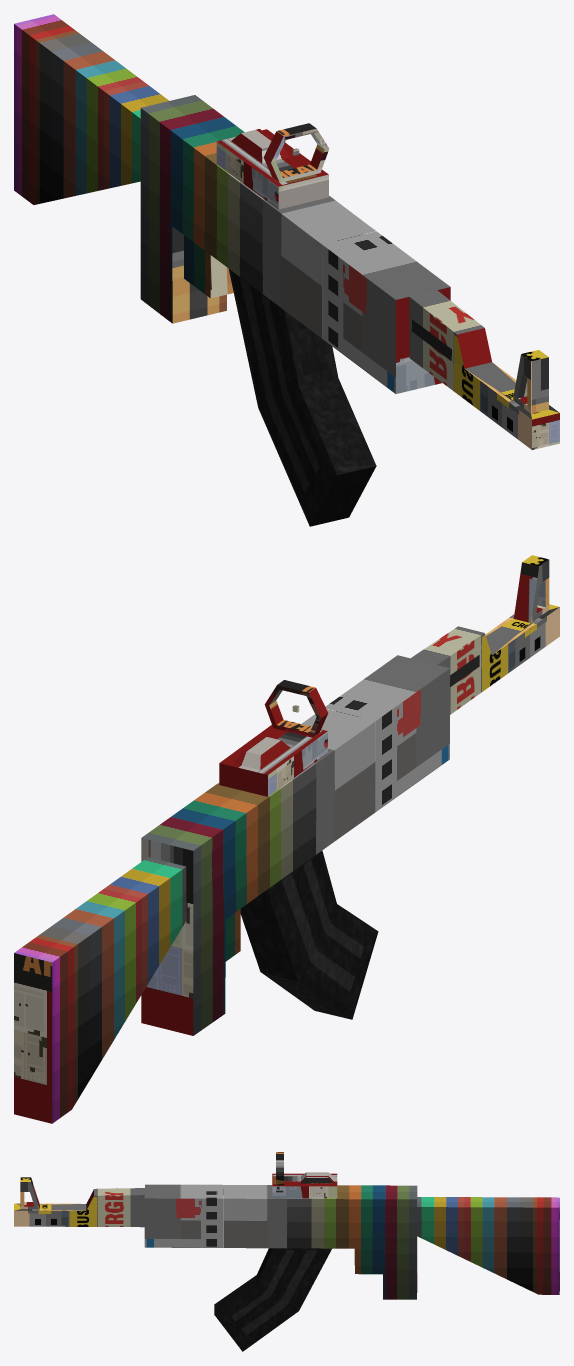
The model's file is SA_Wep_AssaultRifle01_minecraft texture.fbx.
3 renders of one model, top to bottom at view 1: azimuth 30°, elevation 25°; view 2: azimuth 150°, elevation 25°; view 3: azimuth 270°, elevation 25°, orthographic. The views are drawn at different scales.
Parts seen in each view (by area): view 1: SA_Wep_AssaultRifle01, SA_Wep_Magazine002, SA_Wep_AssaultRifle01_Reddot; view 2: SA_Wep_AssaultRifle01, SA_Wep_Magazine002, SA_Wep_AssaultRifle01_Reddot; view 3: SA_Wep_AssaultRifle01, SA_Wep_Magazine002, SA_Wep_AssaultRifle01_Reddot.
Part boxes in pixels (left/top/right/bottom): SA_Wep_AssaultRifle01: left=14, top=14, right=559, bottom=449; SA_Wep_Magazine002: left=229, top=269, right=376, bottom=526; SA_Wep_AssaultRifle01_Reddot: left=216, top=123, right=329, bottom=209; SA_Wep_AssaultRifle01: left=14, top=555, right=559, bottom=1123; SA_Wep_Magazine002: left=240, top=850, right=378, bottom=1019; SA_Wep_AssaultRifle01_Reddot: left=219, top=680, right=328, bottom=796; SA_Wep_AssaultRifle01: left=14, top=1177, right=559, bottom=1299; SA_Wep_Magazine002: left=214, top=1248, right=331, bottom=1351; SA_Wep_AssaultRifle01_Reddot: left=272, top=1152, right=337, bottom=1198.
Size of the model in its own units: 0.1245 by 0.7347 by 1.9.
